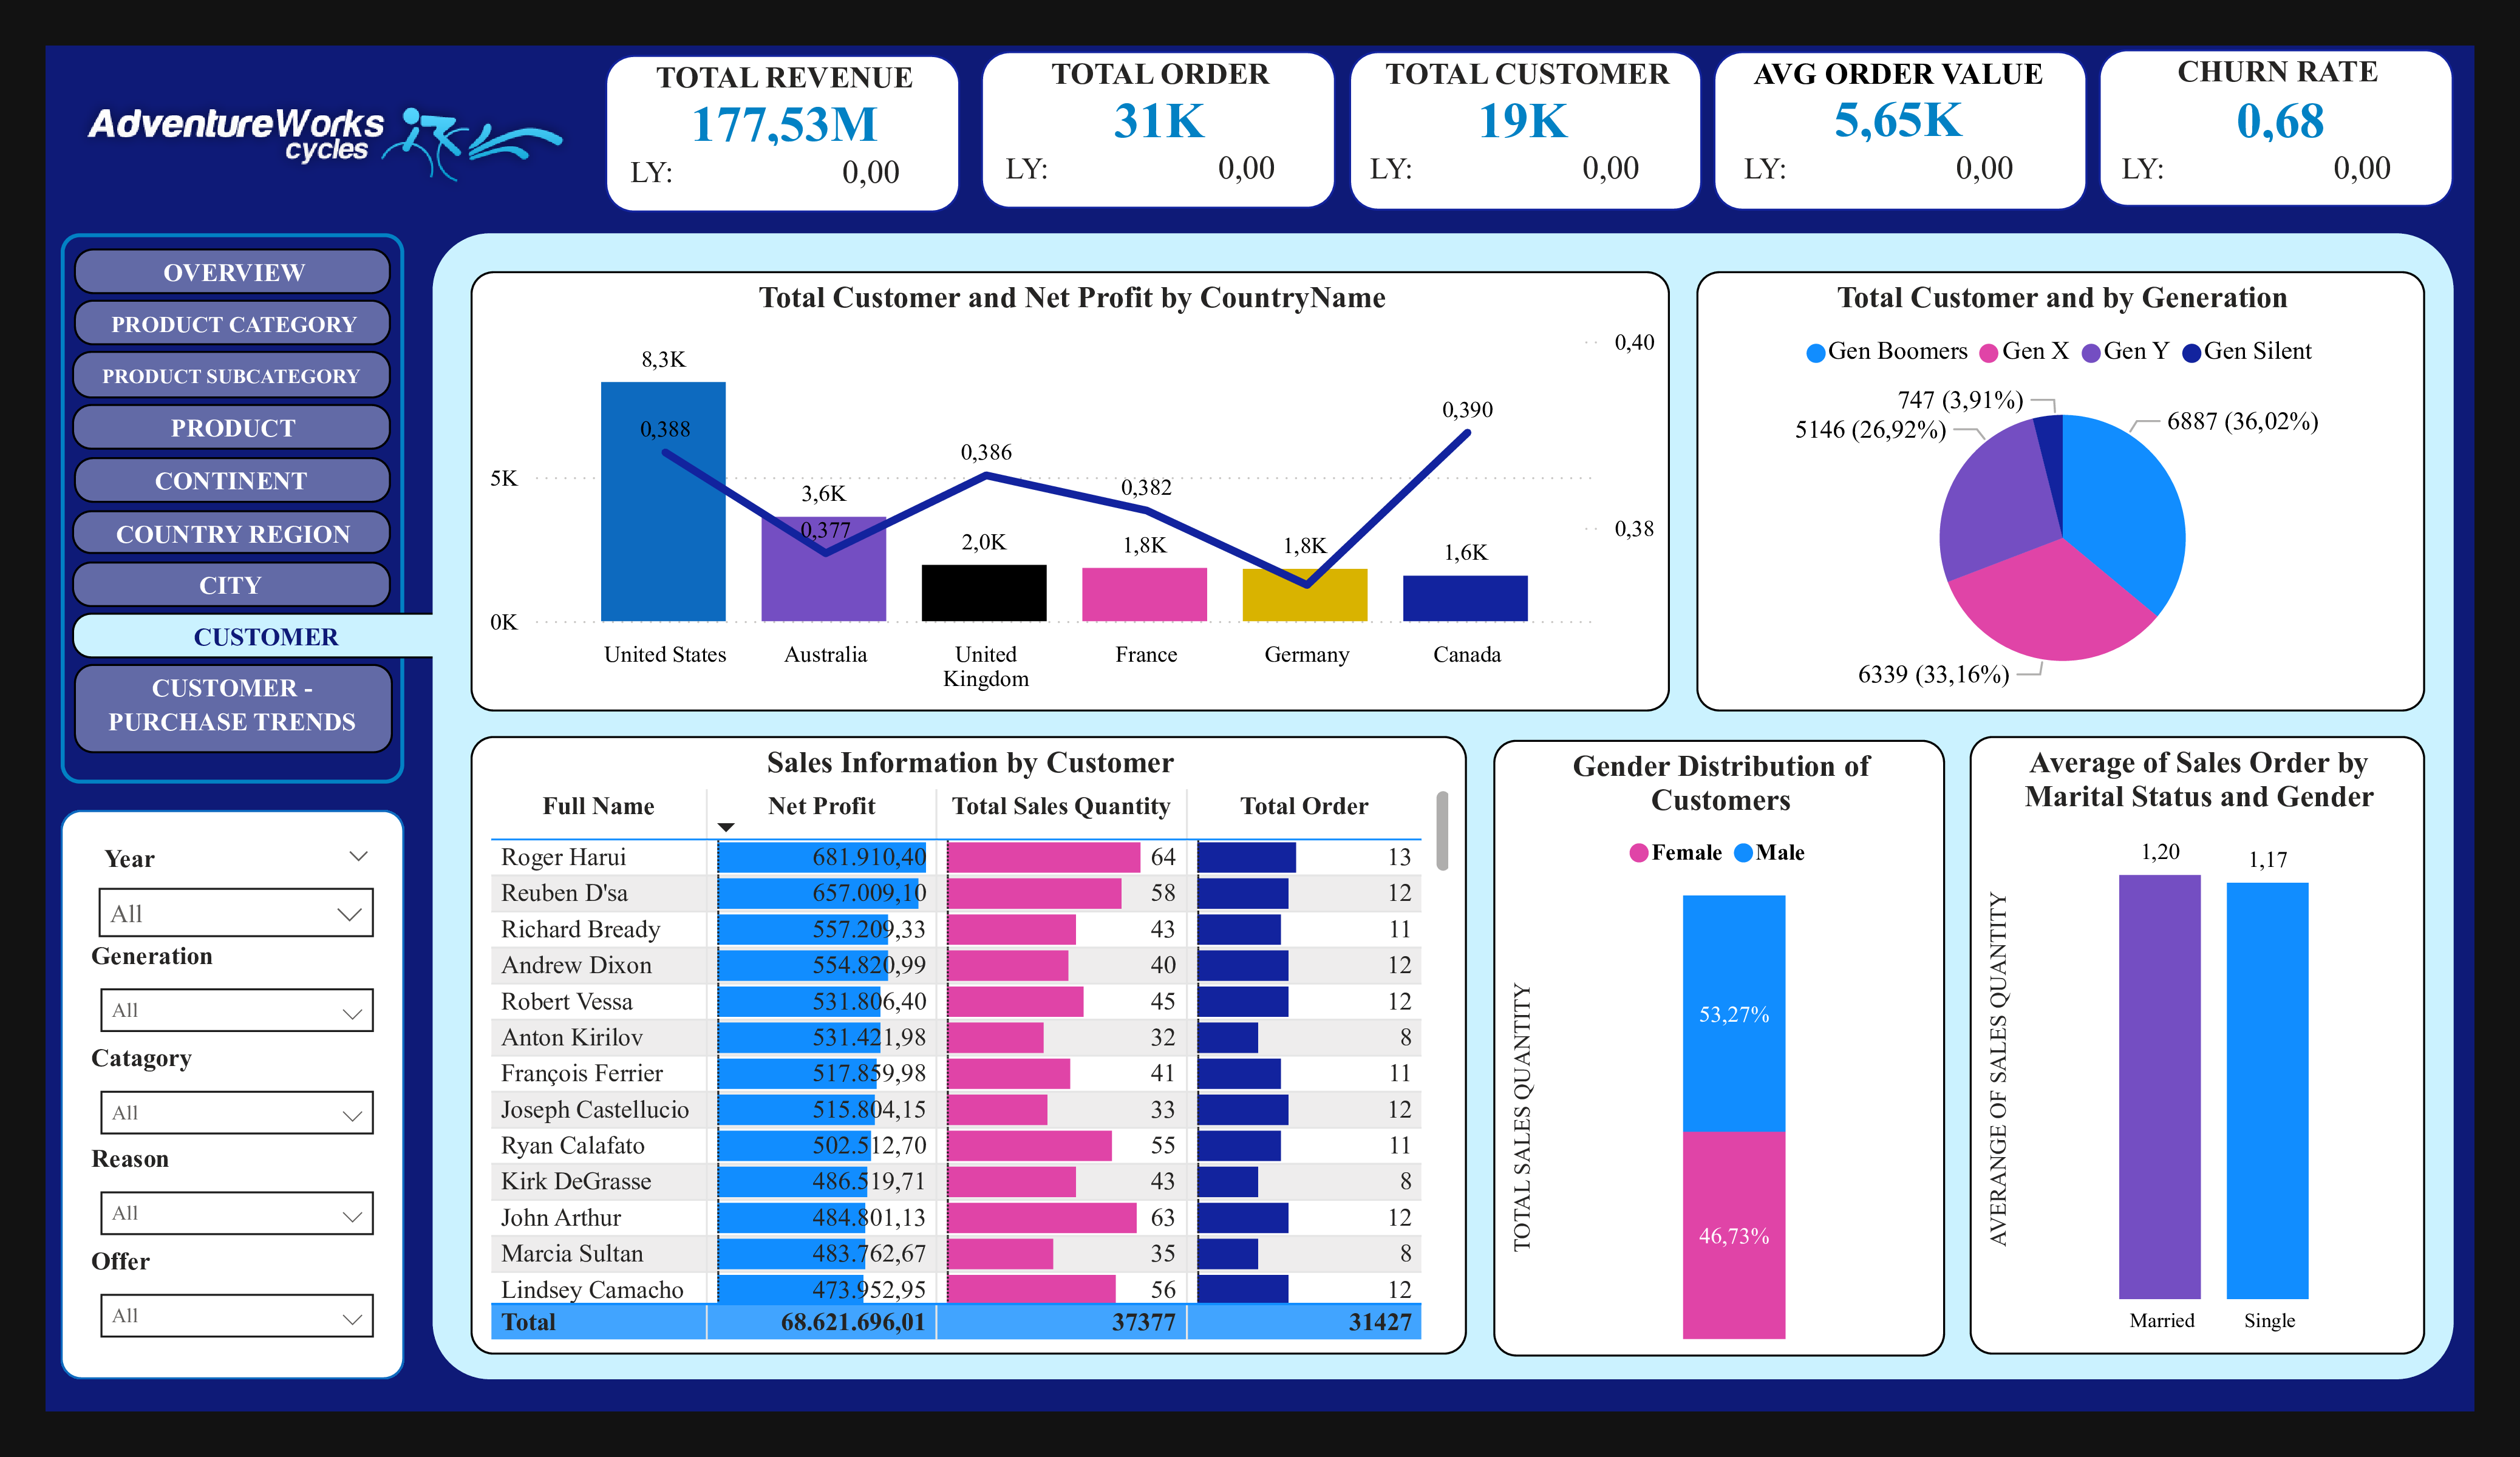

This screenshot's page, from the dashboard's own definition file:
{"tool":"powerbi","page":{"name":"Customer ","canvas":[1280,720],"ordinal":7},"visuals":[{"type":"textbox","box":[1081.7,1.9,186.7,83.3],"z":0,"group":"g16"},{"type":"textbox","box":[686.8,2.9,186.4,83.6],"z":0,"group":"g17"},{"type":"textbox","box":[879.5,2.9,197.1,83.6],"z":0,"group":"g18"},{"type":"textbox","box":[493.3,3.3,186.7,83.3],"z":0,"group":"g13"},{"type":"textbox","box":[295.4,4.6,186.7,83.3],"z":0,"group":"g12"},{"type":"group","id":"g1","title":"Group 3","box":[1088.8,50.5,94.3,29.3],"z":0,"group":"g6"},{"type":"textbox","box":[1088.8,50.5,83.6,29.3],"z":0,"group":"g1"},{"type":"group","id":"g2","title":"Group 3","box":[890.9,50.8,94.3,29.3],"z":0,"group":"g7"},{"type":"textbox","box":[890.9,50.8,83.6,29.3],"z":0,"group":"g2"},{"type":"group","id":"g3","title":"Group 3","box":[692.3,51.2,94.3,29.3],"z":0,"group":"g8"},{"type":"textbox","box":[692.3,51.2,83.6,29.3],"z":0,"group":"g3"},{"type":"group","id":"g4","title":"Group 3","box":[501.7,51.5,94.3,29.3],"z":0,"group":"g9"},{"type":"textbox","box":[501.7,51.5,83.6,29.3],"z":0,"group":"g4"},{"type":"group","id":"g5","title":"Group 3","box":[303.8,52.9,94.3,29.3],"z":0,"group":"g10"},{"type":"textbox","box":[303.8,52.9,83.6,29.3],"z":0,"group":"g5"},{"type":"shape","box":[7.5,99,181.5,290],"z":0},{"type":"image","box":[0,22,295,61],"z":1000},{"type":"card","fields":{"Values":["Avg(Fact_SalesOrderHeader.Total_Amount_4_Order)"]},"box":[902.1,23.4,147.5,33.3],"z":1000,"group":"g18"},{"type":"card","fields":{"Values":["Sales Customer.Churn_Rate_Year"]},"box":[1102.8,23.6,147.8,33.3],"z":1000,"group":"g16"},{"type":"card","fields":{"Values":["Fact_SalesOrderHeader.Total_Customer"]},"box":[703.5,23.7,147.5,33.3],"z":1000,"group":"g17"},{"type":"card","fields":{"Values":["Fact_SalesOrderHeader.Total_Order"]},"box":[512.9,24.1,147.5,33.3],"z":1000,"group":"g19"},{"type":"card","fields":{"Values":["Fact_SalesOrderHeader.Total_Revenue"]},"box":[315,25.4,147.5,33.3],"z":1000,"group":"g12"},{"type":"card","fields":{"Values":["Sales Customer.Pre_Churn_Rate_Year"]},"box":[1115.6,50.5,67.5,24.3],"z":1000,"group":"g1"},{"type":"card","fields":{"Values":["Sales Customer.%Change_Churn_Rate_Year"]},"box":[1183,50.6,76.2,29.2],"z":1000,"group":"g6"},{"type":"card","fields":{"Values":["Fact_SalesOrderHeader.Prev_Avg_Total_Amount_4_Order"]},"box":[917.7,50.8,67.5,24.3],"z":1000,"group":"g2"},{"type":"card","fields":{"Values":["Fact_SalesOrderHeader.%Change_Avg_Total_Amount_4_Order"]},"box":[985.1,50.9,76.2,29.2],"z":1000,"group":"g7"},{"type":"card","fields":{"Values":["Fact_SalesOrderHeader.Prev_Total_Customer"]},"box":[719.1,51.2,67.5,24.3],"z":1000,"group":"g3"},{"type":"card","fields":{"Values":["Fact_SalesOrderHeader.%Change_Total_Customer"]},"box":[786.5,51.3,76.2,29.2],"z":1000,"group":"g8"},{"type":"card","fields":{"Values":["Fact_SalesOrderHeader.Prev_Total_Order"]},"box":[528.5,51.5,67.5,24.3],"z":1000,"group":"g4"},{"type":"card","fields":{"Values":["Fact_SalesOrderHeader.%Change_Total_Order"]},"box":[595.9,51.6,76.2,29.2],"z":1000,"group":"g9"},{"type":"card","fields":{"Values":["Fact_SalesOrderHeader.Prev_Total_Revenue"]},"box":[330.6,52.9,67.5,24.3],"z":1000,"group":"g5"},{"type":"card","fields":{"Values":["Fact_SalesOrderHeader.%Change_Revenue"]},"box":[398,53,76.2,29.2],"z":1000,"group":"g10"},{"type":"textbox","box":[14.8,134.1,167,24.1],"z":2000},{"type":"textbox","box":[14.4,161.5,167.4,24.1],"z":3000},{"type":"textbox","box":[14.4,188.9,167.4,24.4],"z":4000},{"type":"textbox","box":[14.7,216.8,167.4,23.7],"z":5000},{"type":"textbox","box":[14.2,244.7,167.4,23.7],"z":6000},{"type":"textbox","box":[14.2,272.1,167.4,23.7],"z":7000},{"type":"group","id":"g6","title":"Group 4","box":[1088.8,50.5,170.6,29.4],"z":8000,"group":"g16"},{"type":"group","id":"g7","title":"Group 4","box":[890.9,50.8,170.5,29.3],"z":8000,"group":"g18"},{"type":"group","id":"g8","title":"Group 4","box":[692.3,51.2,170.5,29.3],"z":8000,"group":"g17"},{"type":"group","id":"g9","title":"Group 4","box":[501.7,51.5,170.5,29.3],"z":8000,"group":"g19"},{"type":"group","id":"g10","title":"Group 4","box":[303.8,52.9,170.5,29.3],"z":8000,"group":"g12"},{"type":"textbox","box":[14,299,206,24],"z":8000},{"type":"shape","box":[8.2,402.5,181.2,300],"z":9000},{"type":"group","id":"g11","title":"Group 1","box":[18.2,416.2,165,272.5],"z":10000},{"type":"shape","box":[203.5,98.8,1055.8,603.5],"z":11000},{"type":"slicer","fields":{"Values":["Datetime.OrderDate.Variation.Date Hierarchy.Year"]},"box":[18.2,416.2,165.2,56.5],"z":11000,"group":"g11"},{"type":"pieChart","title":"Total Customer and by Generation","fields":{"Category":["Sales Customer.Generation"],"Y":["CountNonNull(Sales Customer.CustomerID)"]},"box":[224.4,118.6,483.7,232.6],"z":12000},{"type":"slicer","title":"Catagory ","fields":{"Values":["ProductCategory.Name"]},"box":[19,526.6,164.4,52.7],"z":12000,"group":"g11"},{"type":"tableEx","title":"Sales Information by Customer","fields":{"Values":["Sales Customer.Full Name","Fact_SalesOrderHeader.Net_Profit","Sum(Fact_SalesOrderDetail.OrderQty)","Fact_SalesOrderDetail.SalesOrderID"]},"box":[723.3,119.8,517.4,570.9],"z":13000},{"type":"slicer","title":"Reason ","fields":{"Values":["SalesReason.Name"]},"box":[19,579.3,164.4,54],"z":13000,"group":"g11"},{"type":"hundredPercentStackedColumnChart","title":"Gender Distribution of Customers","fields":{"Series":["Sales Customer.Gender"],"Y":["Sum(Fact_SalesOrderDetail.OrderQty)"]},"box":[224.4,365.1,238.4,325.6],"z":14000},{"type":"slicer","title":"Offer ","fields":{"Values":["SpecialOffer.Type"]},"box":[19,633.3,164.4,55.2],"z":14000,"group":"g11"},{"type":"columnChart","title":"Average of Sales Order by Marital Status and Gender","fields":{"Y":["Avg(Fact_SalesOrderDetail.OrderQty)"],"Category":["Sales Customer.Marital Status"]},"box":[467.4,365.1,240.7,325.6],"z":15000},{"type":"slicer","title":"Generation","fields":{"Values":["Sales Customer.Generation"]},"box":[19,472.7,164.4,55.2],"z":15000,"group":"g11"},{"type":"textbox","box":[15,326.1,167.8,47.2],"z":17000},{"type":"textbox","box":[14.7,107.1,167.1,23.5],"z":18000},{"type":"group","id":"g12","title":"Group 2","box":[295.4,4.6,186.7,83.3],"z":19000},{"type":"group","id":"g13","title":"Group 2","box":[493.3,3.3,186.7,83.3],"z":20000},{"type":"group","id":"g14","title":"Group 2","box":[686.8,2.9,186.7,84.2],"z":21000},{"type":"group","id":"g15","title":"Group 2","box":[879.5,2.9,197.1,83.6],"z":22000},{"type":"group","id":"g16","title":"Group 8","box":[1081.7,1.9,186.7,83.3],"z":22001,"group":"g20"},{"type":"group","id":"g17","title":"Group 6","box":[686.8,2.9,186.4,83.6],"z":22001,"group":"g14"},{"type":"group","id":"g18","title":"Group 7","box":[879.5,2.9,197.1,83.6],"z":22001,"group":"g15"},{"type":"group","id":"g19","title":"Group 5","box":[501.7,24.1,170.5,56.7],"z":22001,"group":"g13"},{"type":"group","id":"g20","title":"Group 2","box":[1081.7,1.9,186.7,83.3],"z":23000}]}

Visuals, with their boxes on the page's 1280x720 design canvas (x1, y1, x2, y2). These are canvas units, not pixel positions in the 2520x1457 screenshot, which may show the page scaled, cropped or inside an application window:
textbox: x1=1082, y1=2, x2=1268, y2=85
textbox: x1=687, y1=3, x2=873, y2=86
textbox: x1=880, y1=3, x2=1077, y2=86
textbox: x1=493, y1=3, x2=680, y2=87
textbox: x1=295, y1=5, x2=482, y2=88
"Group 3" group: x1=1089, y1=50, x2=1183, y2=80
textbox: x1=1089, y1=50, x2=1172, y2=80
"Group 3" group: x1=891, y1=51, x2=985, y2=80
textbox: x1=891, y1=51, x2=974, y2=80
"Group 3" group: x1=692, y1=51, x2=787, y2=80
textbox: x1=692, y1=51, x2=776, y2=80
"Group 3" group: x1=502, y1=52, x2=596, y2=81
textbox: x1=502, y1=52, x2=585, y2=81
"Group 3" group: x1=304, y1=53, x2=398, y2=82
textbox: x1=304, y1=53, x2=387, y2=82
shape: x1=8, y1=99, x2=189, y2=389
image: x1=0, y1=22, x2=295, y2=83
card - Avg(Fact_SalesOrderHeader.Total_Amount_4_Order): x1=902, y1=23, x2=1050, y2=57
card - Sales Customer.Churn_Rate_Year: x1=1103, y1=24, x2=1251, y2=57
card - Fact_SalesOrderHeader.Total_Customer: x1=704, y1=24, x2=851, y2=57
card - Fact_SalesOrderHeader.Total_Order: x1=513, y1=24, x2=660, y2=57
card - Fact_SalesOrderHeader.Total_Revenue: x1=315, y1=25, x2=462, y2=59
card - Sales Customer.Pre_Churn_Rate_Year: x1=1116, y1=50, x2=1183, y2=75
card - Sales Customer.%Change_Churn_Rate_Year: x1=1183, y1=51, x2=1259, y2=80
card - Fact_SalesOrderHeader.Prev_Avg_Total_Amount_4_Order: x1=918, y1=51, x2=985, y2=75
card - Fact_SalesOrderHeader.%Change_Avg_Total_Amount_4_Order: x1=985, y1=51, x2=1061, y2=80
card - Fact_SalesOrderHeader.Prev_Total_Customer: x1=719, y1=51, x2=787, y2=76
card - Fact_SalesOrderHeader.%Change_Total_Customer: x1=786, y1=51, x2=863, y2=80
card - Fact_SalesOrderHeader.Prev_Total_Order: x1=528, y1=52, x2=596, y2=76
card - Fact_SalesOrderHeader.%Change_Total_Order: x1=596, y1=52, x2=672, y2=81
card - Fact_SalesOrderHeader.Prev_Total_Revenue: x1=331, y1=53, x2=398, y2=77
card - Fact_SalesOrderHeader.%Change_Revenue: x1=398, y1=53, x2=474, y2=82
textbox: x1=15, y1=134, x2=182, y2=158
textbox: x1=14, y1=162, x2=182, y2=186
textbox: x1=14, y1=189, x2=182, y2=213
textbox: x1=15, y1=217, x2=182, y2=240
textbox: x1=14, y1=245, x2=182, y2=268
textbox: x1=14, y1=272, x2=182, y2=296
"Group 4" group: x1=1089, y1=50, x2=1259, y2=80
"Group 4" group: x1=891, y1=51, x2=1061, y2=80
"Group 4" group: x1=692, y1=51, x2=863, y2=80
"Group 4" group: x1=502, y1=52, x2=672, y2=81
"Group 4" group: x1=304, y1=53, x2=474, y2=82
textbox: x1=14, y1=299, x2=220, y2=323
shape: x1=8, y1=402, x2=189, y2=702
"Group 1" group: x1=18, y1=416, x2=183, y2=689
shape: x1=204, y1=99, x2=1259, y2=702
slicer - Datetime.OrderDate.Variation.Date Hierarchy.Year: x1=18, y1=416, x2=183, y2=473
"Total Customer and by Generation" pieChart: x1=224, y1=119, x2=708, y2=351
"Catagory " slicer: x1=19, y1=527, x2=183, y2=579
"Sales Information by Customer" tableEx: x1=723, y1=120, x2=1241, y2=691
"Reason " slicer: x1=19, y1=579, x2=183, y2=633
"Gender Distribution of Customers" hundredPercentStackedColumnChart: x1=224, y1=365, x2=463, y2=691
"Offer " slicer: x1=19, y1=633, x2=183, y2=688
"Average of Sales Order by Marital Status and Gender" columnChart: x1=467, y1=365, x2=708, y2=691
"Generation" slicer: x1=19, y1=473, x2=183, y2=528
textbox: x1=15, y1=326, x2=183, y2=373
textbox: x1=15, y1=107, x2=182, y2=131
"Group 2" group: x1=295, y1=5, x2=482, y2=88
"Group 2" group: x1=493, y1=3, x2=680, y2=87
"Group 2" group: x1=687, y1=3, x2=874, y2=87
"Group 2" group: x1=880, y1=3, x2=1077, y2=86
"Group 8" group: x1=1082, y1=2, x2=1268, y2=85
"Group 6" group: x1=687, y1=3, x2=873, y2=86
"Group 7" group: x1=880, y1=3, x2=1077, y2=86
"Group 5" group: x1=502, y1=24, x2=672, y2=81
"Group 2" group: x1=1082, y1=2, x2=1268, y2=85
